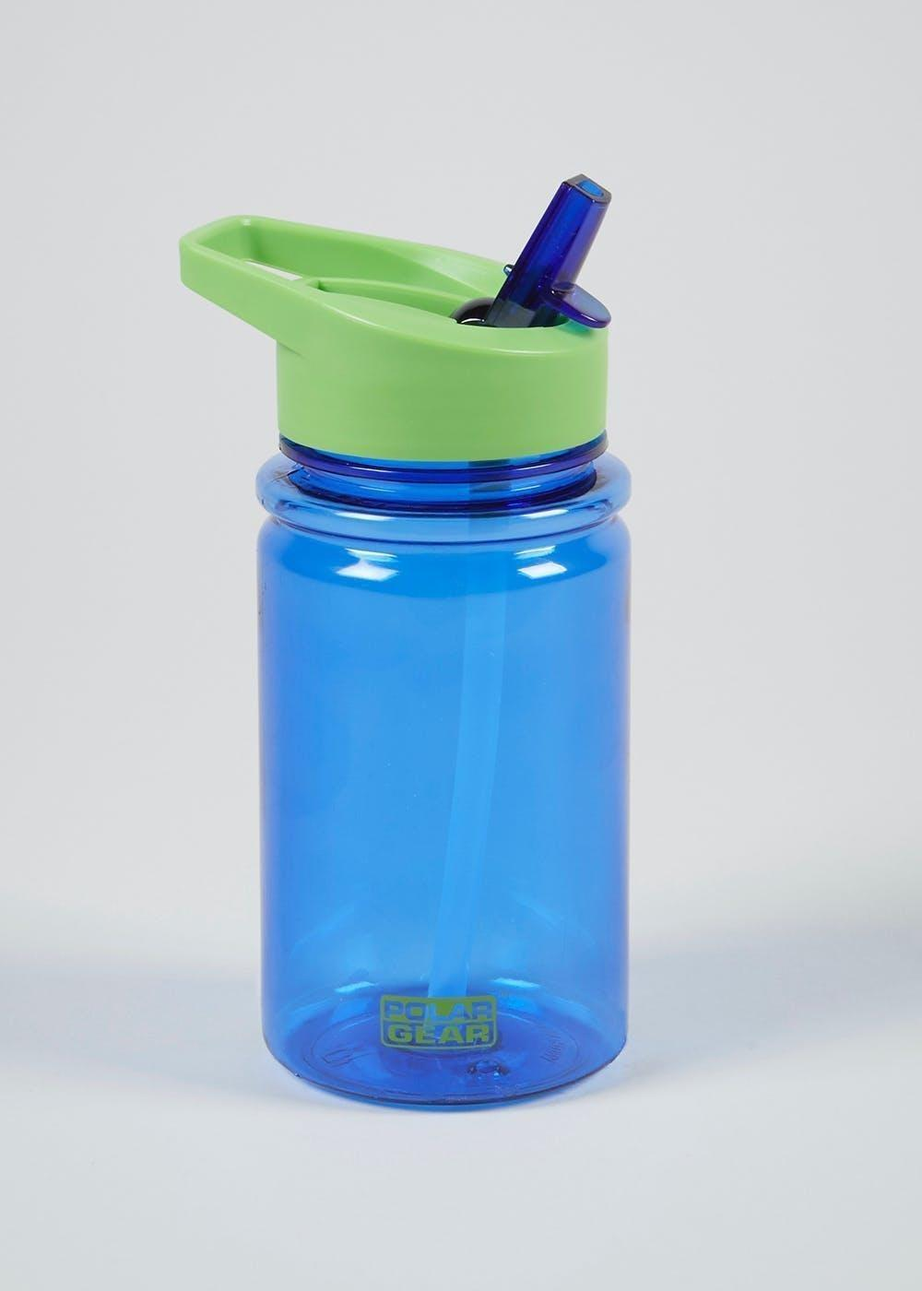gym bottle: (179, 171, 641, 1114)
